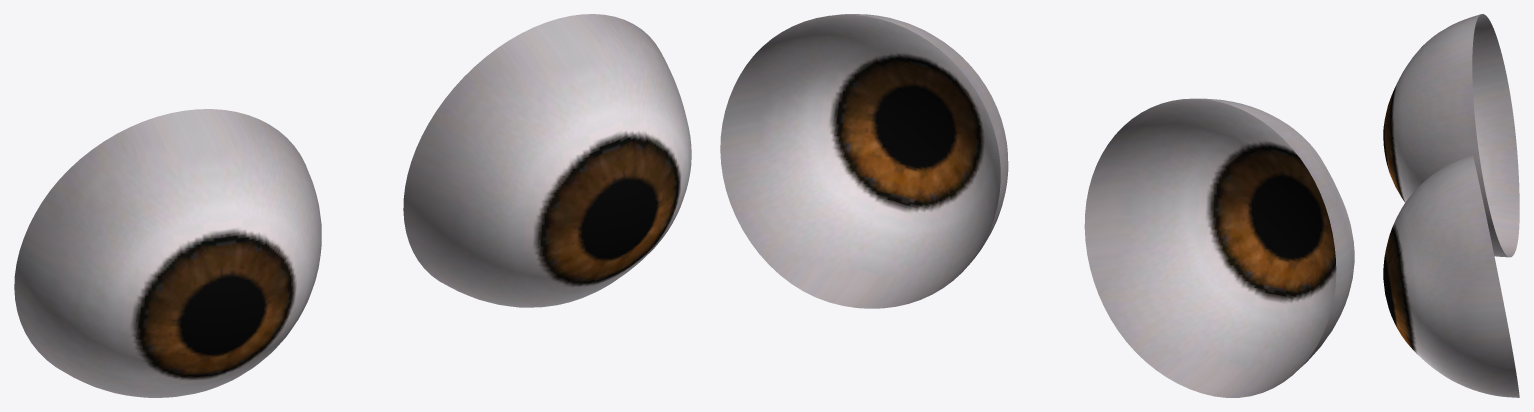
Rendered from Male_Eyes_Brown.glb.
3 views of the same model, side by side, from view 1: azimuth 30°, elevation 25°; view 2: azimuth 150°, elevation 25°; view 3: azimuth 270°, elevation 25° (orthographic). The views are drawn at different scales.
Parts seen in each view (by area): view 1: Male_Eyes_Brown; view 2: Male_Eyes_Brown; view 3: Male_Eyes_Brown.
Part boxes in pixels (x1,y1,x2,y2): Male_Eyes_Brown: (14, 14, 691, 397); Male_Eyes_Brown: (720, 14, 1354, 397); Male_Eyes_Brown: (1383, 14, 1519, 397).
Size of the model in its own units: 0.3476 by 0.1461 by 0.0823.
Materials: 1 (1 with a texture image).
